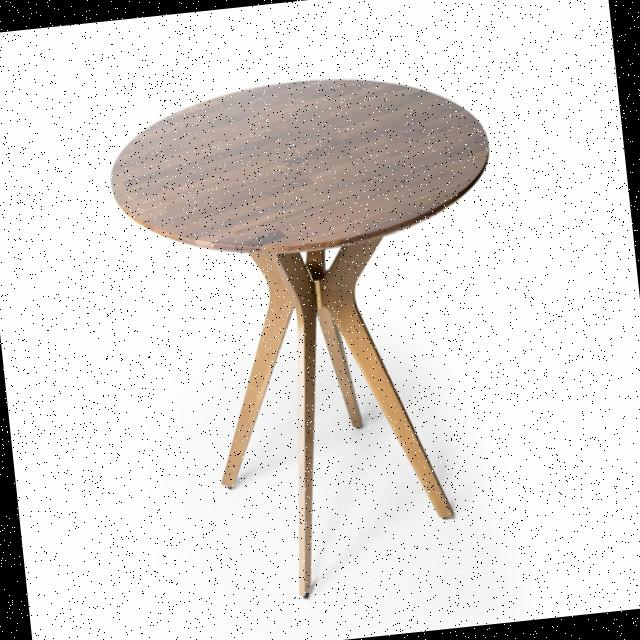Table: (52, 4, 572, 626)
